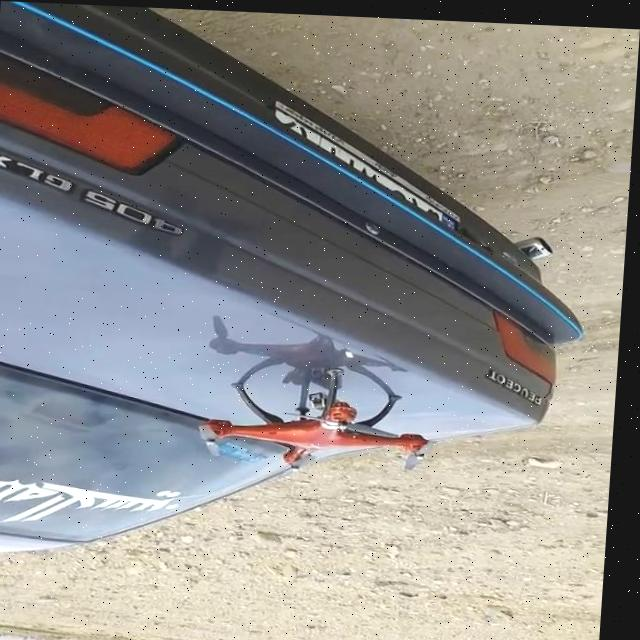drone: (201, 359, 448, 481)
